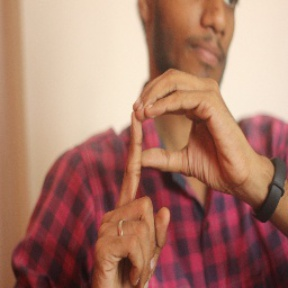P: (86, 67, 242, 273)
